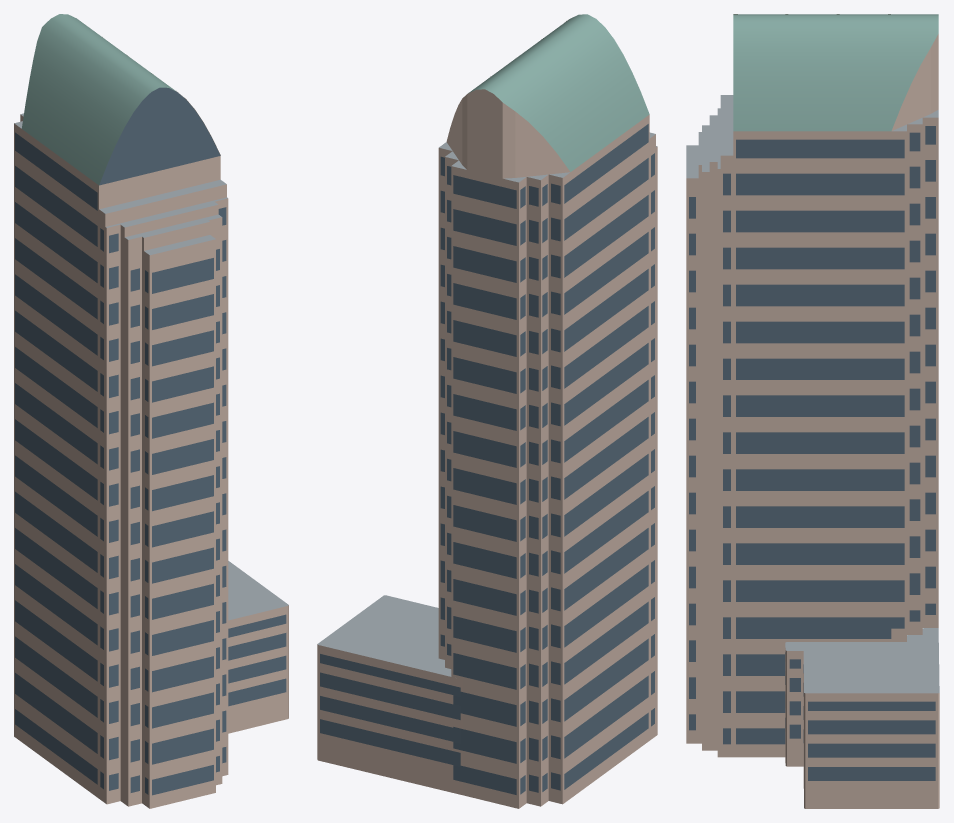
File: sea-municipal-tower.glb
The picture shows the model from 3 angles, left to right: view 1: azimuth 30°, elevation 25°; view 2: azimuth 150°, elevation 25°; view 3: azimuth 270°, elevation 25°; orthographic projection. The views are drawn at different scales.
Visible parts, largest first — view 1: Seattle Municipal Tower; view 2: Seattle Municipal Tower; view 3: Seattle Municipal Tower.
Part boxes in pixels (x1=…): Seattle Municipal Tower: x1=14, y1=14, x2=288, y2=808; Seattle Municipal Tower: x1=317, y1=14, x2=657, y2=808; Seattle Municipal Tower: x1=686, y1=14, x2=939, y2=808.
Bounding box in the file's own units: 72.32 × 214 × 68.99.
